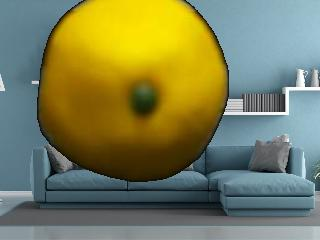lemon: (38, 0, 223, 179)
